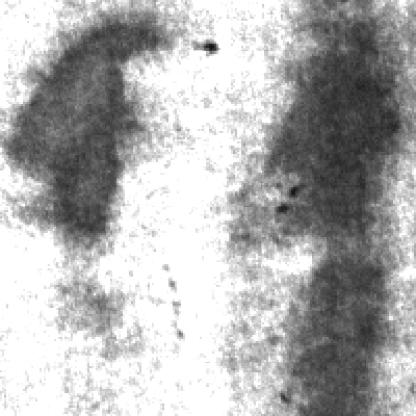patches: (4, 18, 162, 260), (256, 12, 398, 254), (273, 239, 393, 416)
